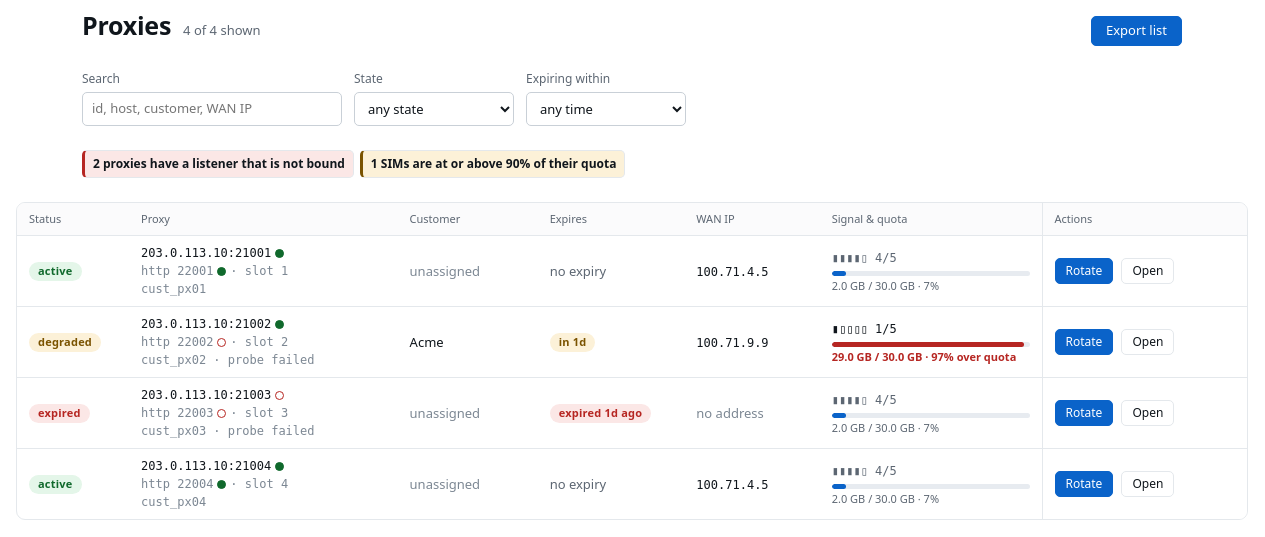
Test: proxies grid › filters client side without another round trip
The image size is (1265, 537).
Expected: the text "203.0.113.10:21001" is shown, [141,244,271,262]
Type "Acme" into the field labelled "Search". click: (212, 109)
box: [82,92,342,126]
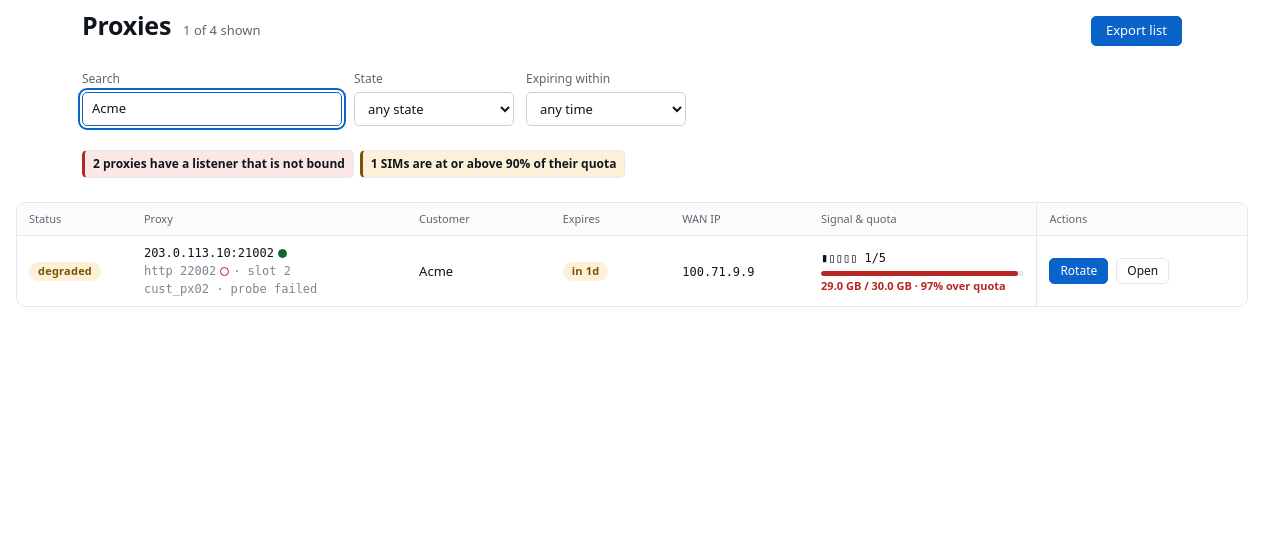
Expected: the text "1 of 4 shown" is shown, [183,21,261,40]
Expected: the text "203.0.113.10:21001" is gone
